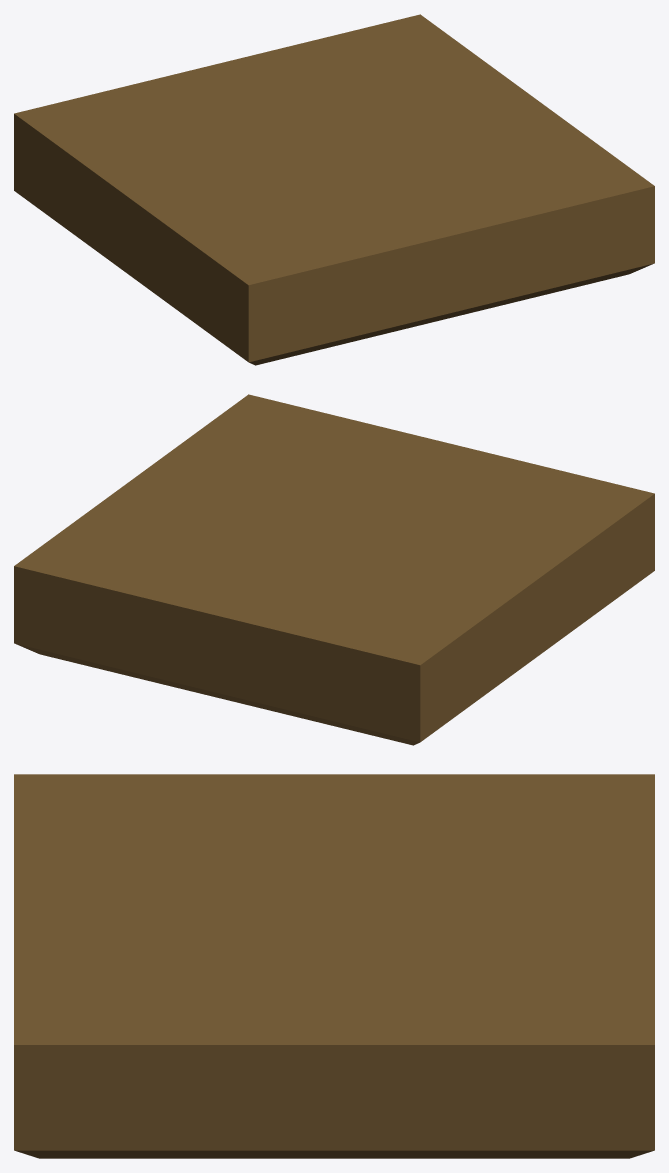
Rendered from Itr_Wall_Column_Cap_01.FBX.
3 views of the same model, one above another, from view 1: azimuth 30°, elevation 25°; view 2: azimuth 150°, elevation 25°; view 3: azimuth 270°, elevation 25° (orthographic). The views are drawn at different scales.
Parts seen in each view (by area): view 1: Itr_Wall_Column_Cap_01; view 2: Itr_Wall_Column_Cap_01; view 3: Itr_Wall_Column_Cap_01.
Part boxes in pixels (bbox=[...]): Itr_Wall_Column_Cap_01: bbox=[14, 14, 654, 365]; Itr_Wall_Column_Cap_01: bbox=[14, 394, 654, 745]; Itr_Wall_Column_Cap_01: bbox=[14, 774, 654, 1158].
Size of the model in its own units: 27.56 by 5.91 by 27.56.
